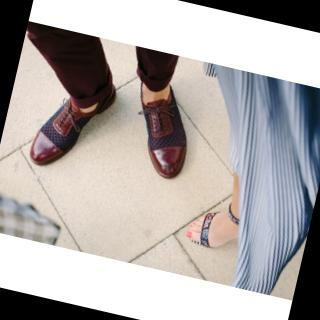loafers: (23, 61, 122, 180), (111, 72, 210, 189)
